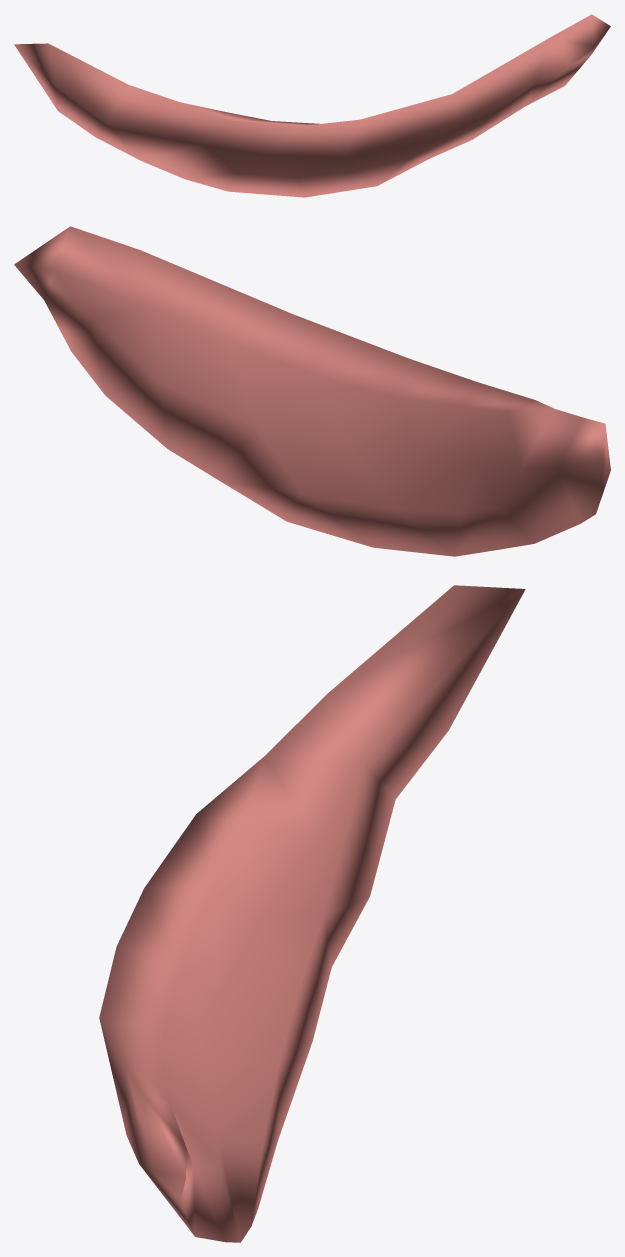
3 views of the same model, one above another, from view 1: azimuth 30°, elevation 25°; view 2: azimuth 150°, elevation 25°; view 3: azimuth 270°, elevation 25° (orthographic). The views are drawn at different scales.
Visible parts, largest first — view 1: ZA_de1eb7694f5e86fd; view 2: ZA_de1eb7694f5e86fd; view 3: ZA_de1eb7694f5e86fd.
Part boxes in pixels (left/top/right/bottom): ZA_de1eb7694f5e86fd: left=14, top=14, right=610, bottom=197; ZA_de1eb7694f5e86fd: left=14, top=226, right=610, bottom=556; ZA_de1eb7694f5e86fd: left=99, top=585, right=525, bottom=1242.
Bounding box in the file's own units: 0.0237 × 0.00776 × 0.00857.
